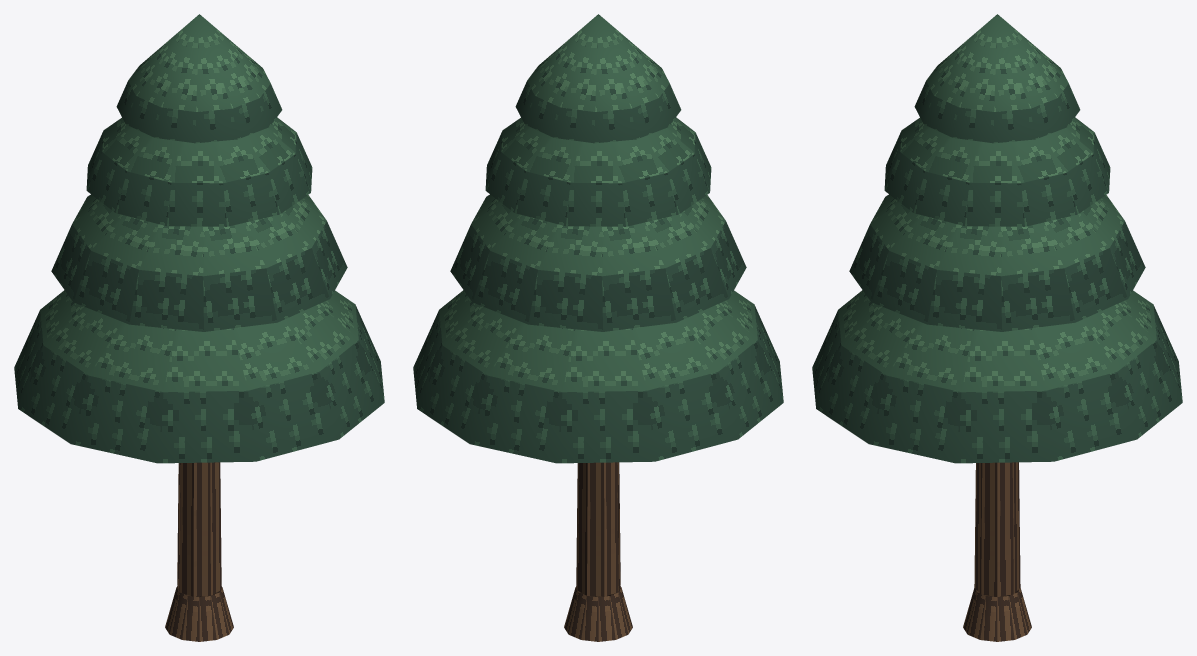
Rendered from pine_3.glb.
3 renders of one model, left to right at view 1: azimuth 30°, elevation 25°; view 2: azimuth 150°, elevation 25°; view 3: azimuth 270°, elevation 25°, orthographic.
Visible parts, largest first — view 1: pine_4; view 2: pine_4; view 3: pine_4.
Part boxes in pixels (x1=…): pine_4: x1=14, y1=14, x2=384, y2=641; pine_4: x1=413, y1=14, x2=783, y2=641; pine_4: x1=812, y1=14, x2=1182, y2=641.
Bounding box in the file's own units: 2.1 × 3.84 × 2.1.
3 materials, 3 textured.
